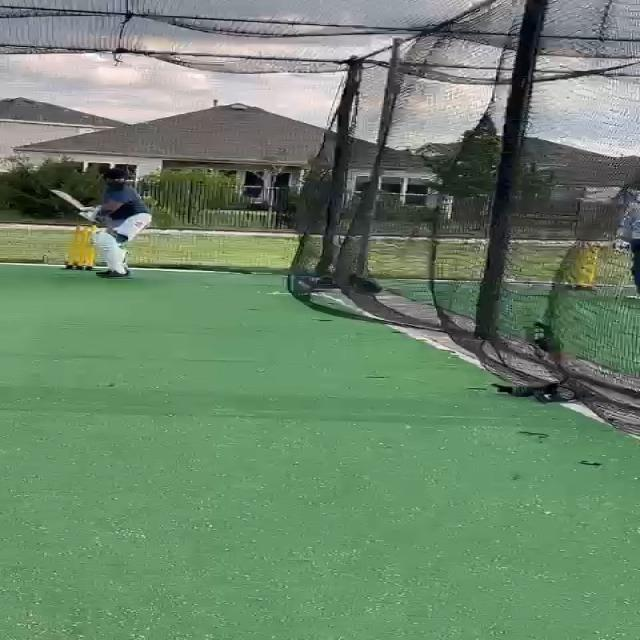batsman: (49, 167, 155, 280)
